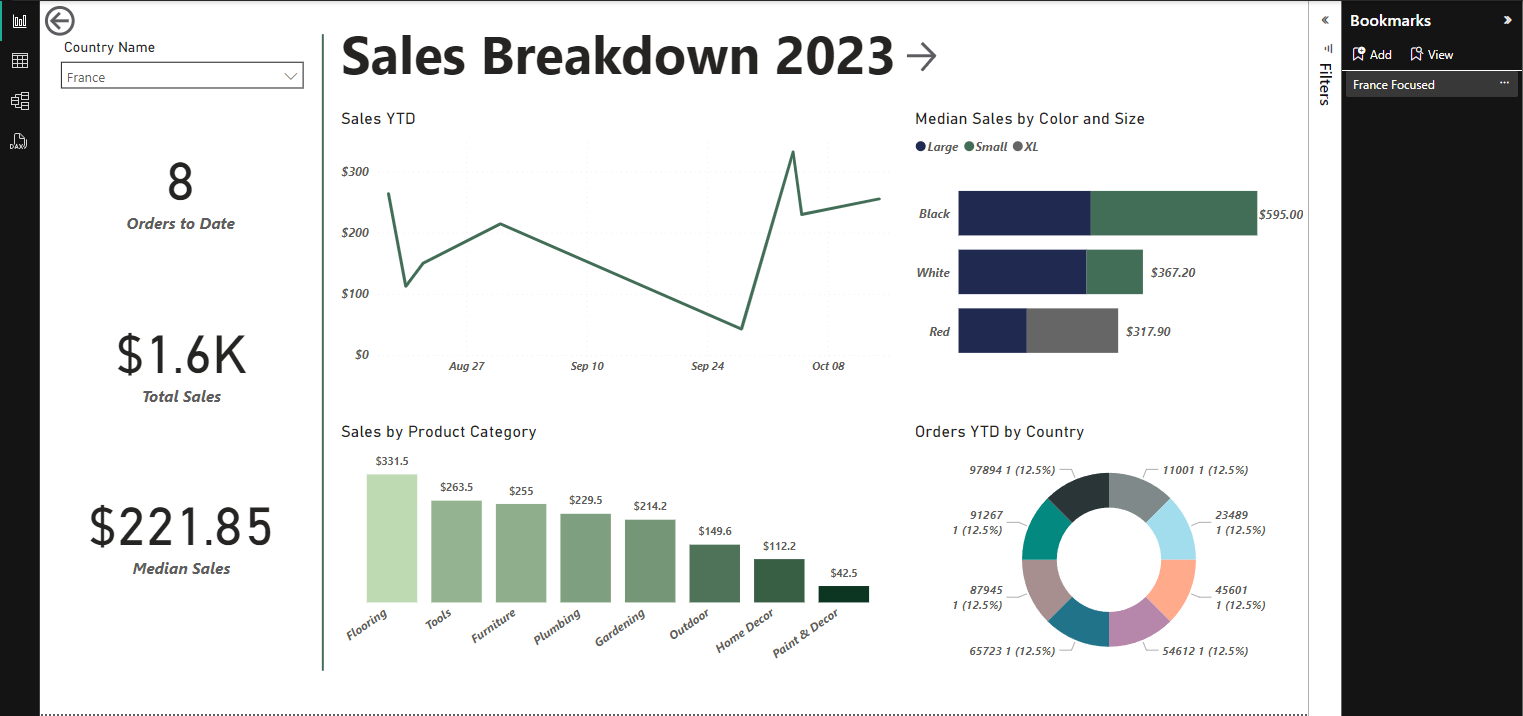

Layout of this report page (visuals, bound fields, positions):
{"tool":"powerbi","page":{"name":"Sales Overview","canvas":[1280,720],"ordinal":0},"visuals":[{"type":"card","fields":{"Values":["Sum(Sales in USD.Gross Revenue USD)"]},"box":[37.9,285.2,208.6,149.6],"z":0},{"type":"card","fields":{"Values":["Sales in USD.Median Sales"]},"box":[37.9,459.7,208.6,149.6],"z":1000},{"type":"card","fields":{"Values":["Sales in USD.YTD Orders"]},"box":[44.7,110.6,195,149.6],"z":2000},{"type":"lineChart","title":"Sales YTD","fields":{"Category":["CalendarTable.Date"],"Y":["Sum(Sales in USD.Gross Revenue USD)"]},"box":[298.3,107.9,570.4,278.4],"z":3000},{"type":"slicer","fields":{"Values":["Sales in USD.Country Name"]},"box":[10.9,33.6,264.8,66.2],"z":4000},{"type":"columnChart","title":"Sales by Product Category","fields":{"Category":["Sales in USD.Product Category"],"Y":["Sum(Sales in USD.Gross Revenue USD)"]},"box":[298.3,423.5,570.4,261.2],"z":5000},{"type":"donutChart","title":"Orders YTD by Country","fields":{"Y":["Sales in USD.YTD Orders"],"Category":["Sales in USD.Country Name Hierarchy.Country Name","Sales in USD.Country Name Hierarchy.ZIP Code","Sales in USD.Country Name Hierarchy.Street Address"]},"box":[878.7,423.5,401.7,261.2],"z":6000},{"type":"textbox","box":[298.3,10.9,580.4,90.7],"z":7000},{"type":"shape","box":[270.2,33.6,29.9,642.9],"z":8000},{"type":"actionButton","box":[868.7,36.3,99.7,39.9],"z":9000},{"type":"barChart","fields":{"Category":["Sales in USD. Color  "],"Y":["Sales in USD.Median Sales"],"Series":["Sales in USD. Size  "]},"box":[878.7,107.9,401.7,278.4],"z":10000},{"type":"actionButton","box":[0,0,100,40],"z":11000}]}

Visuals, with their boxes on the page's 1280x720 design canvas (x1, y1, x2, y2). These are canvas units, not pixel positions in the 1523x716 screenshot, which may show the page scaled, cropped or inside an application window:
card - Sum(Sales in USD.Gross Revenue USD): (38,285,246,435)
card - Sales in USD.Median Sales: (38,460,246,609)
card - Sales in USD.YTD Orders: (45,111,240,260)
"Sales YTD" lineChart: (298,108,869,386)
slicer - Sales in USD.Country Name: (11,34,276,100)
"Sales by Product Category" columnChart: (298,424,869,685)
"Orders YTD by Country" donutChart: (879,424,1280,685)
textbox: (298,11,879,102)
shape: (270,34,300,676)
actionButton: (869,36,968,76)
barChart - Sales in USD. Color   x Sales in USD.Median Sales: (879,108,1280,386)
actionButton: (0,0,100,40)
